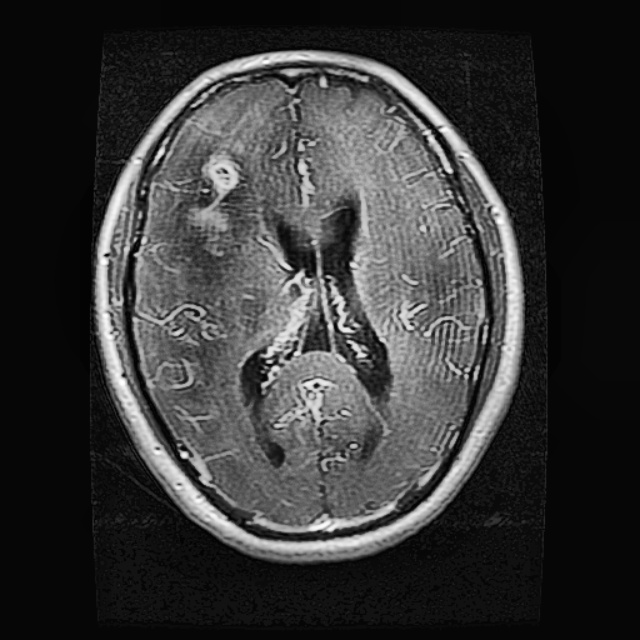Pituitary: (145, 140, 269, 270)
